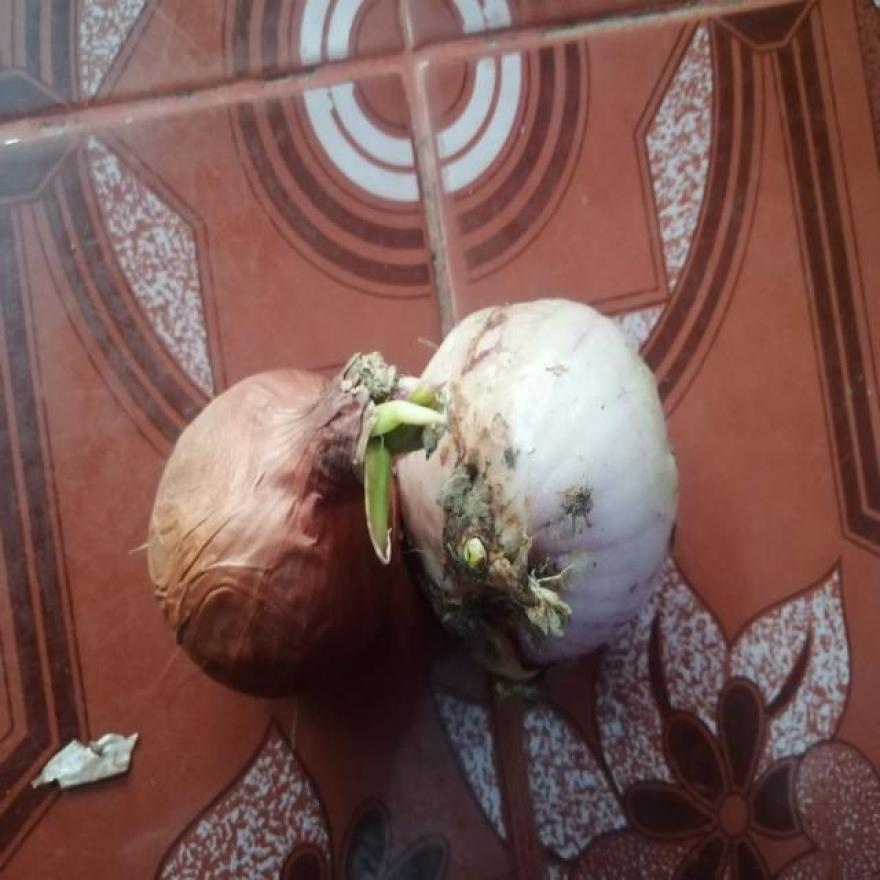Rotten: (458, 533, 564, 639)
Sprouted: (338, 368, 432, 531)
